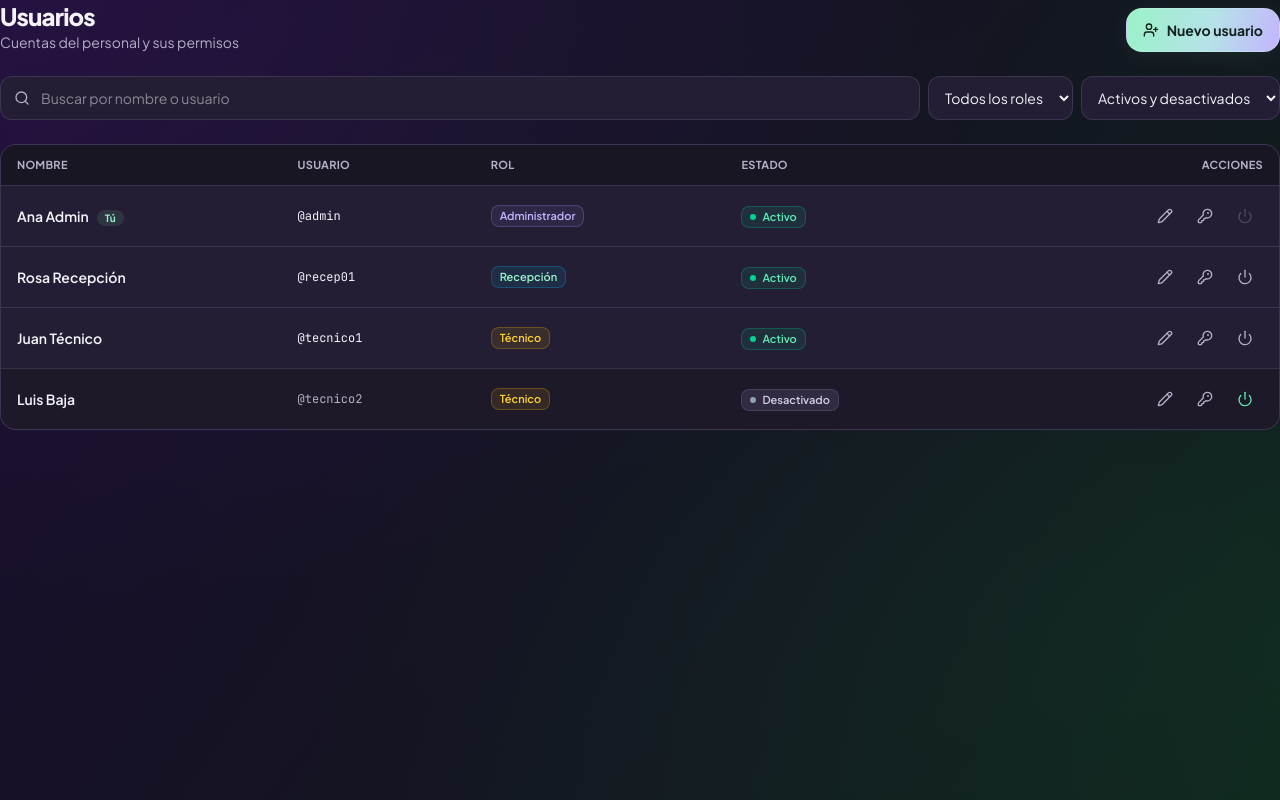
Test case: UsersPage maintenance › deactivates another user after confirming [008/RF-4.1]
Check: the text "Juan Técnico" is shown, box [1, 307, 282, 368]
Click the button named "Desactivar Juan Técnico" at x=1245, y=338, box [1227, 316, 1263, 360]
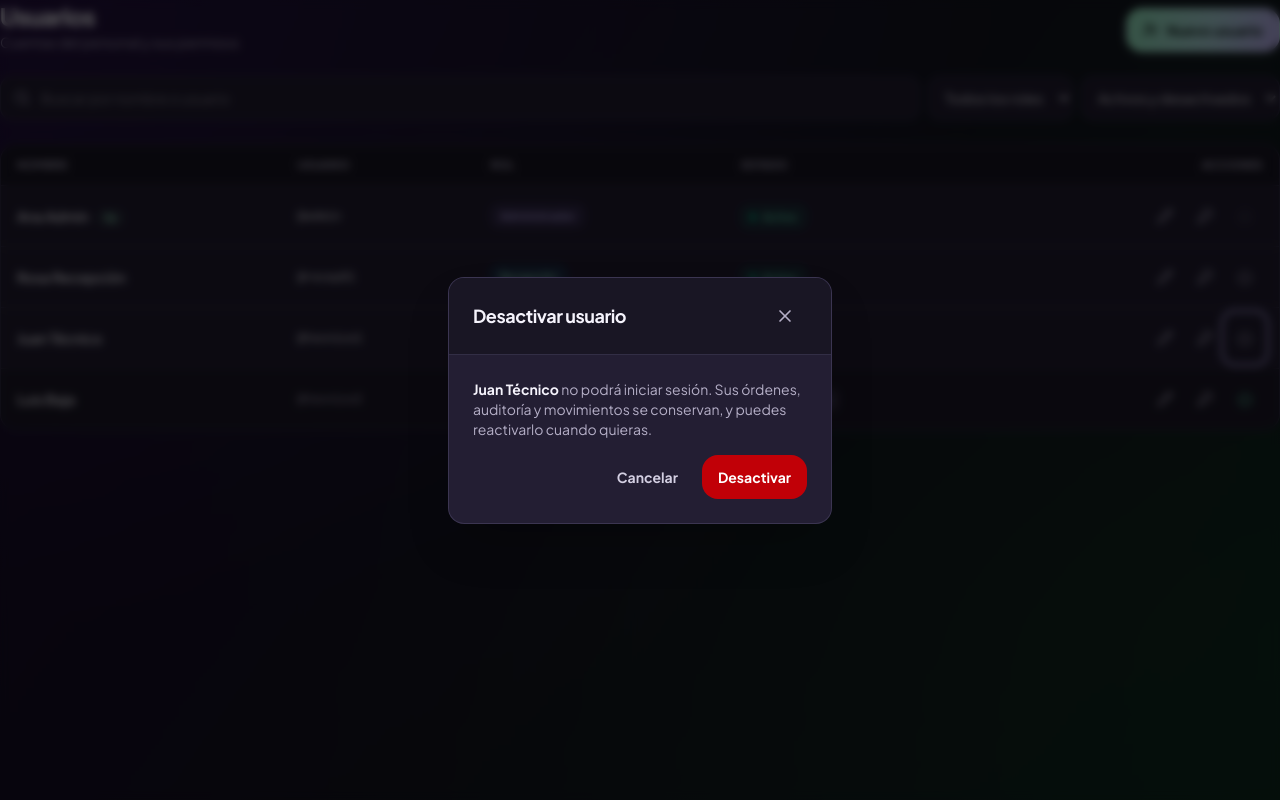
Click the button "Desactivar" at x=754, y=476, box [702, 454, 807, 498]
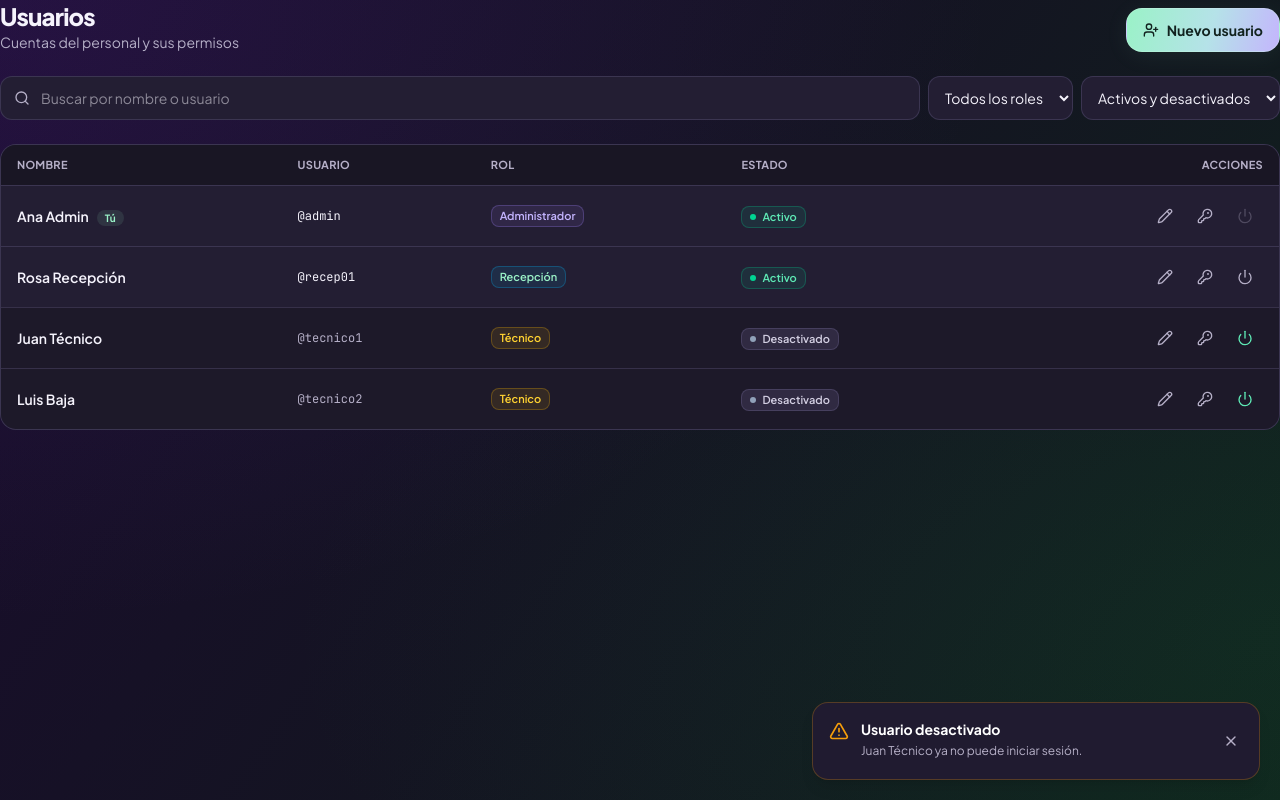
Check: the heading "Usuario desactivado" is shown, box [861, 720, 1000, 738]
Check: the text "Desactivado" is shown, box [741, 328, 839, 350]
